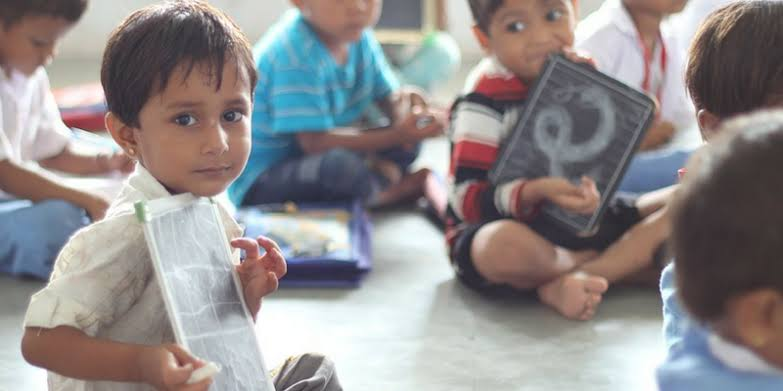student: (93, 1, 263, 191), (685, 6, 783, 129), (466, 1, 580, 77), (5, 1, 71, 85), (294, 1, 383, 50)
